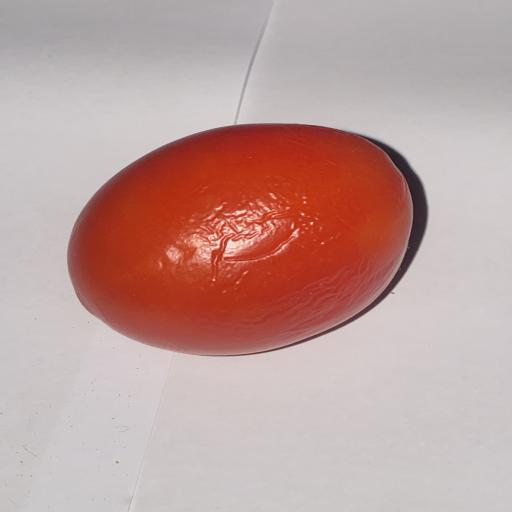spoiled: (68, 124, 412, 355)
